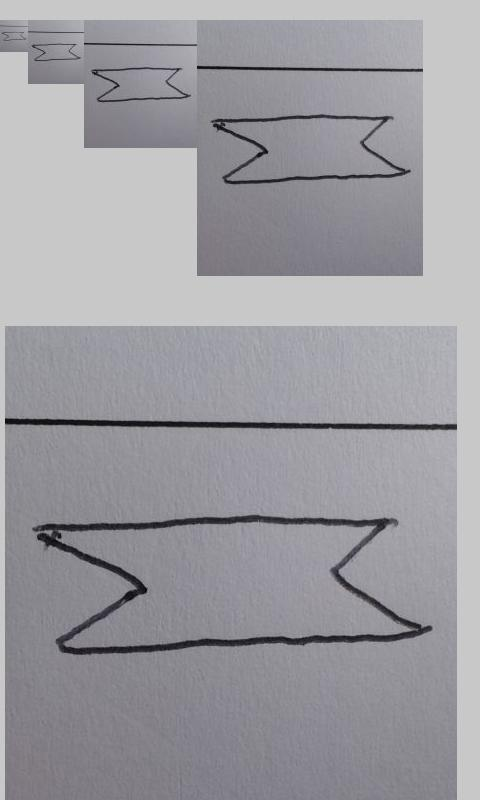edit_text: (30, 516, 430, 656), (214, 112, 407, 185), (92, 67, 190, 103), (32, 43, 81, 62), (2, 31, 26, 41)
